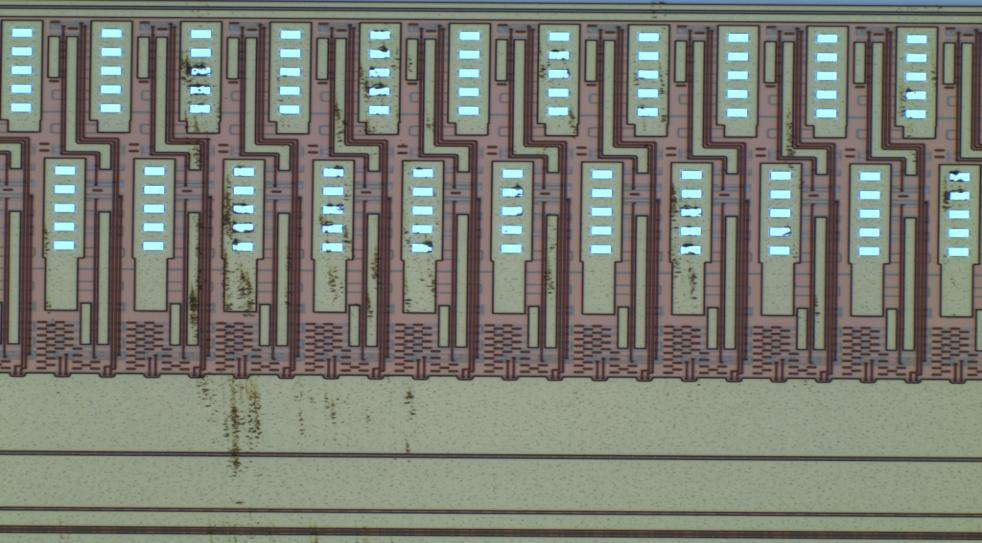SCRATCH: (162, 1, 965, 535)
